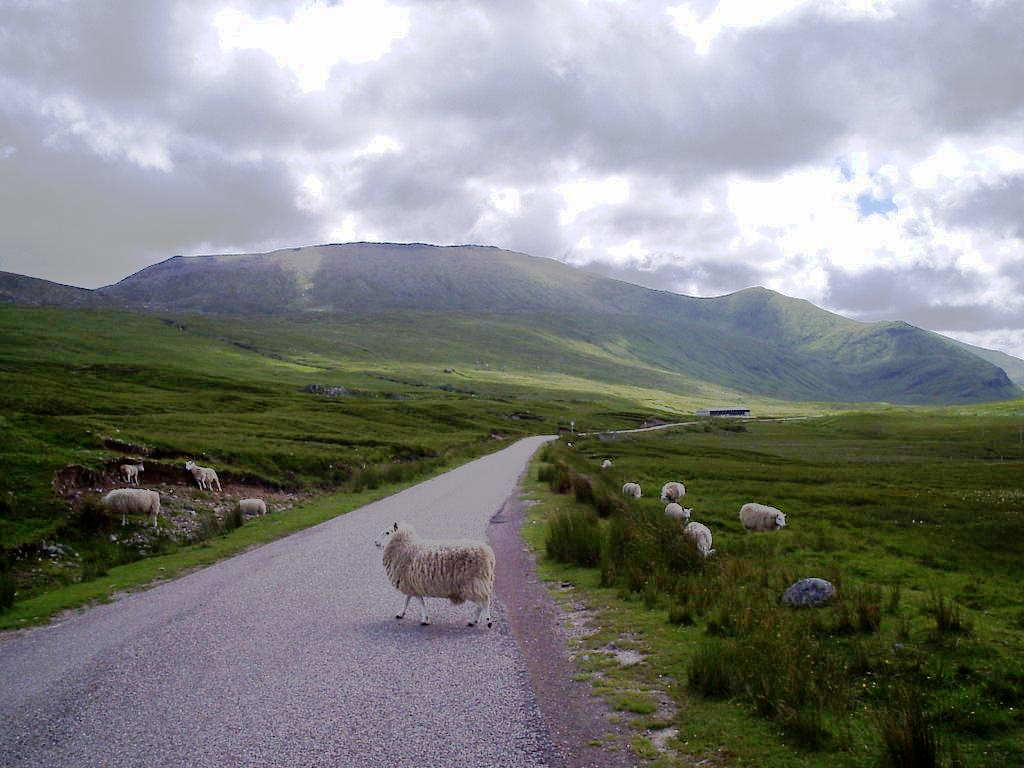Sheep: (374, 520, 494, 631), (97, 491, 162, 527), (739, 502, 785, 533), (684, 520, 713, 555), (184, 462, 222, 487), (231, 496, 267, 514), (664, 502, 691, 524), (661, 482, 685, 504), (120, 466, 144, 486), (622, 482, 641, 499)
